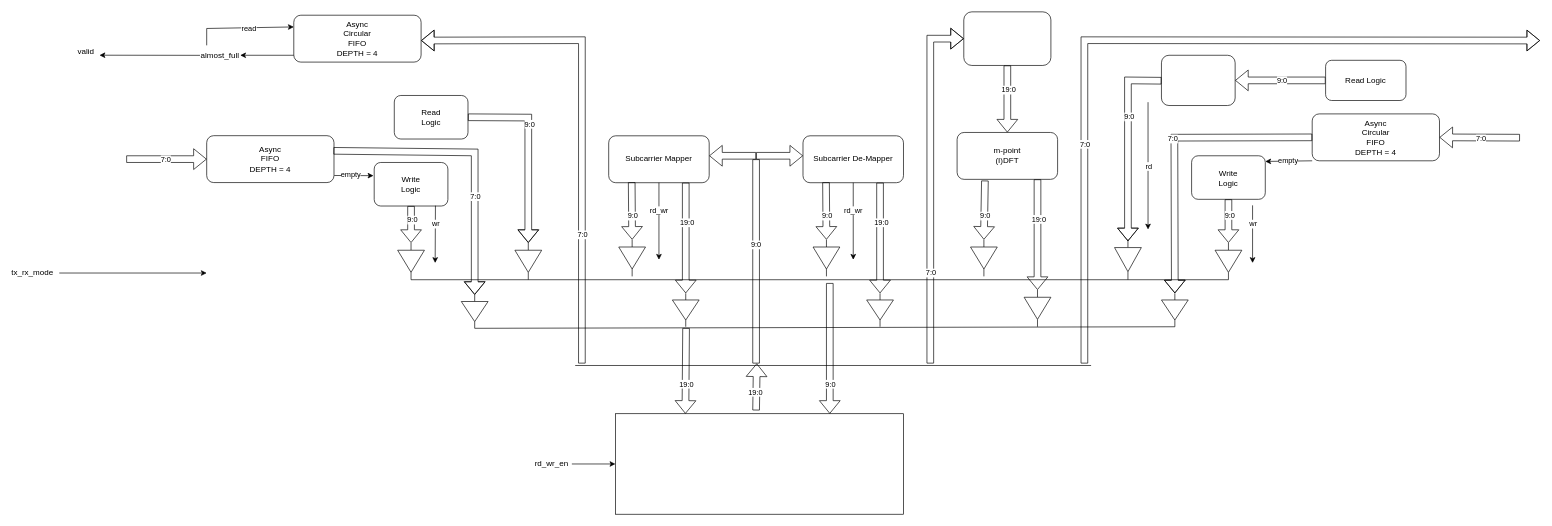
Image size: 1552x526. Some labels were removed from this diagram. The shapes that lost their labels are listed below. From the top down, each one's centre as x and y in pixels, then its label:
the point at 1007,38: Equalizer
the point at 1198,80: clk_dmn_sync SYNC = 2
the point at 759,463: SRAM 512x20b
